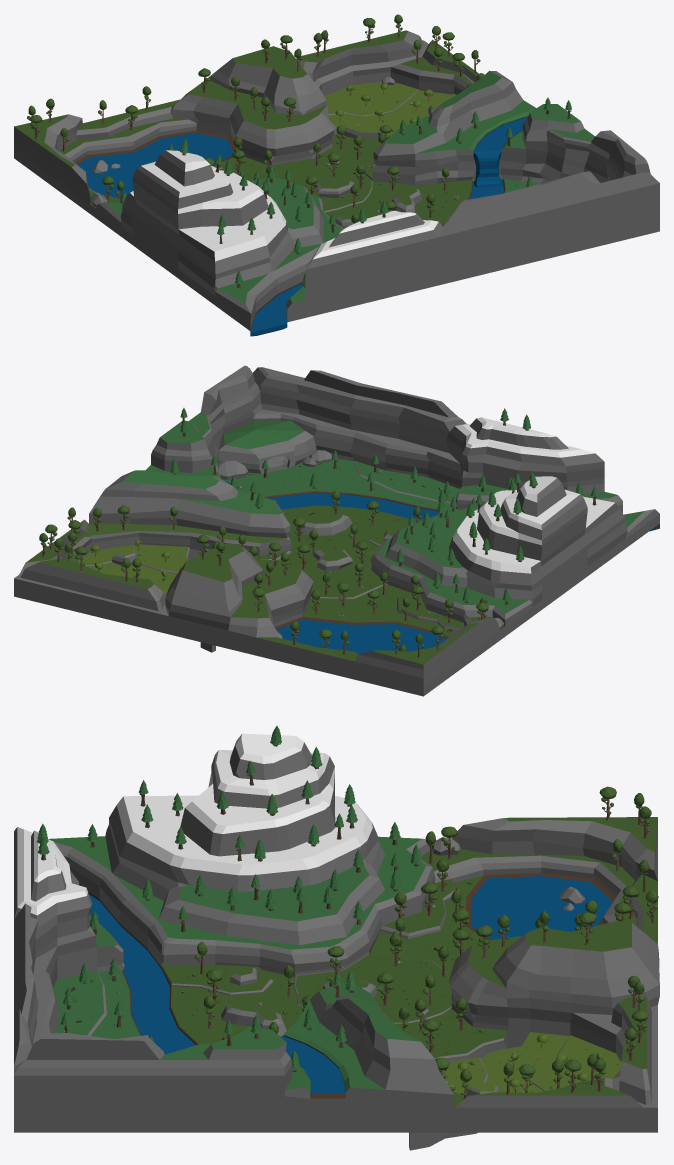
The model's file is Landscape.fbx.
3 renders of one model, top to bottom at view 1: azimuth 30°, elevation 25°; view 2: azimuth 150°, elevation 25°; view 3: azimuth 270°, elevation 25°, orthographic. The views are drawn at different scales.
Visible parts, largest first — view 1: Ground, Lake, River, Waterfall, UpperRiver; view 2: Ground, Cave, Lake, River; view 3: Ground, Lake, River, UpperRiver.
Part boxes in pixels (<box>): Ground: <box>14,30,659,336</box>; Lake: <box>78,133,233,197</box>; River: <box>250,180,503,336</box>; Waterfall: <box>473,150,501,187</box>; UpperRiver: <box>474,117,527,151</box>; Ground: <box>14,365,659,696</box>; Cave: <box>218,420,316,473</box>; Lake: <box>276,619,446,653</box>; River: <box>267,493,659,531</box>; Ground: <box>14,733,659,1150</box>; Lake: <box>470,876,612,939</box>; River: <box>89,894,195,1054</box>; UpperRiver: <box>282,1036,345,1093</box>.
Bounding box in the file's own units: 252 × 100 × 251.
